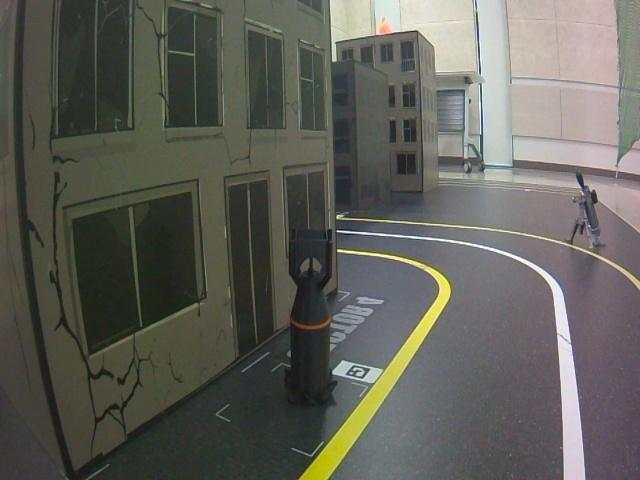Missile: (283, 223, 343, 401)
Mortar: (563, 168, 606, 253)
